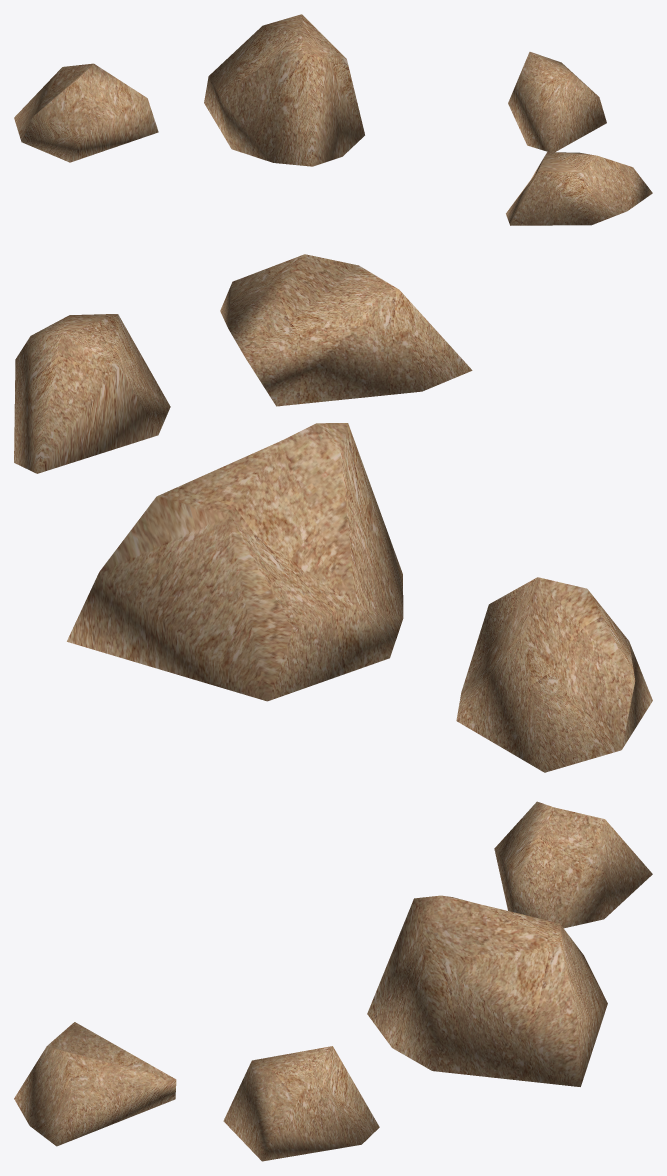
File: rock_pebbleclump_l1.fbx
3 renders of one model, top to bottom at view 1: azimuth 30°, elevation 25°; view 2: azimuth 150°, elevation 25°; view 3: azimuth 270°, elevation 25°, orthographic. The views are drawn at different scales.
Visible parts, largest first — view 1: mesh_node; view 2: mesh_node; view 3: mesh_node.
Boxes of the visible parts, left/top/right/bottom form: mesh_node: left=14, top=14, right=652, bottom=225; mesh_node: left=14, top=254, right=652, bottom=772; mesh_node: left=14, top=801, right=652, bottom=1161.
Size of the model in its own units: 0.8359 by 0.186 by 0.7689.
